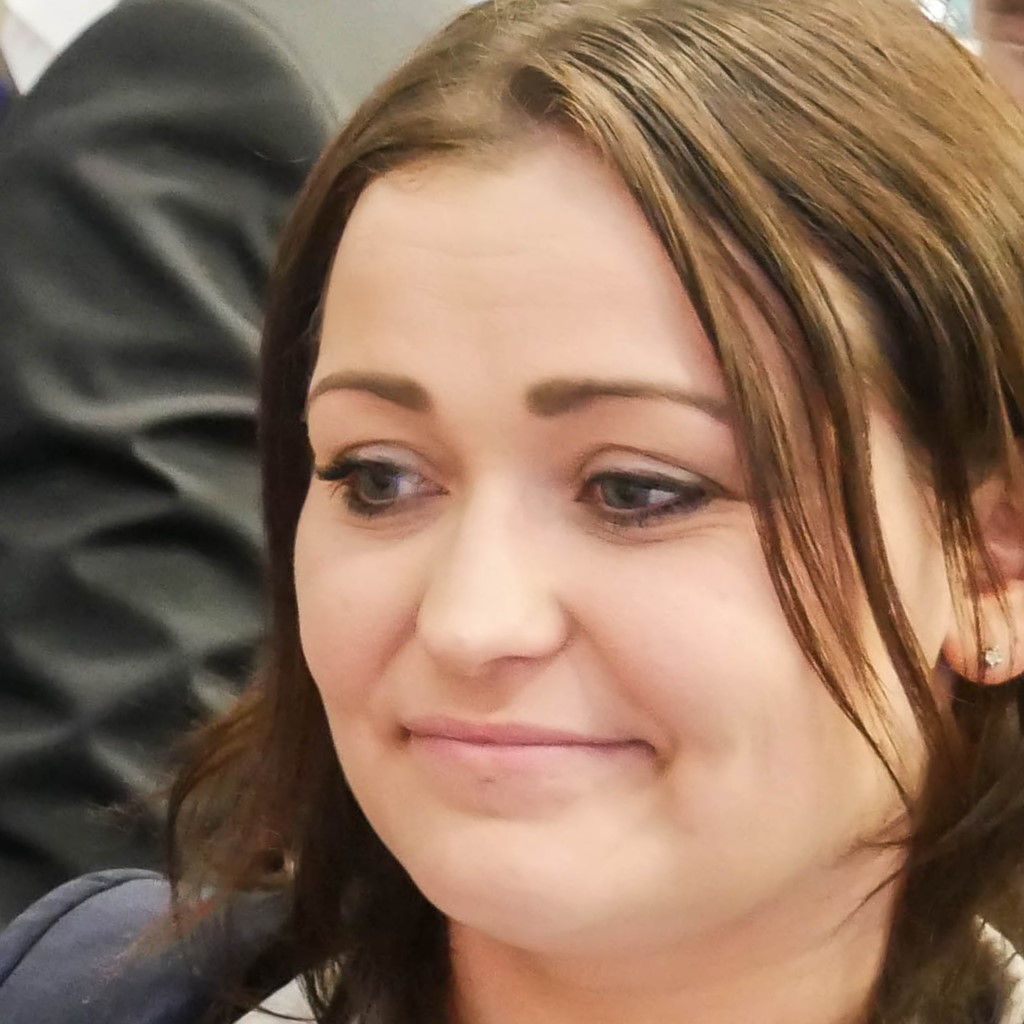sin_mascara: (297, 96, 946, 949)
